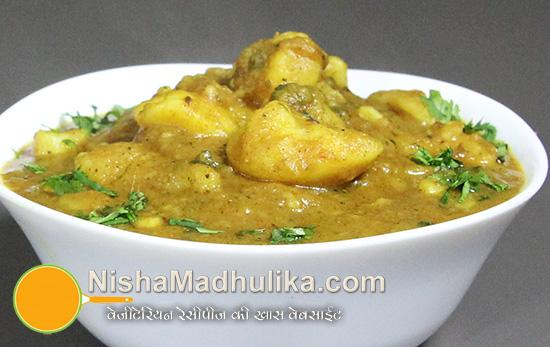aloo sabji: (30, 56, 499, 242)
